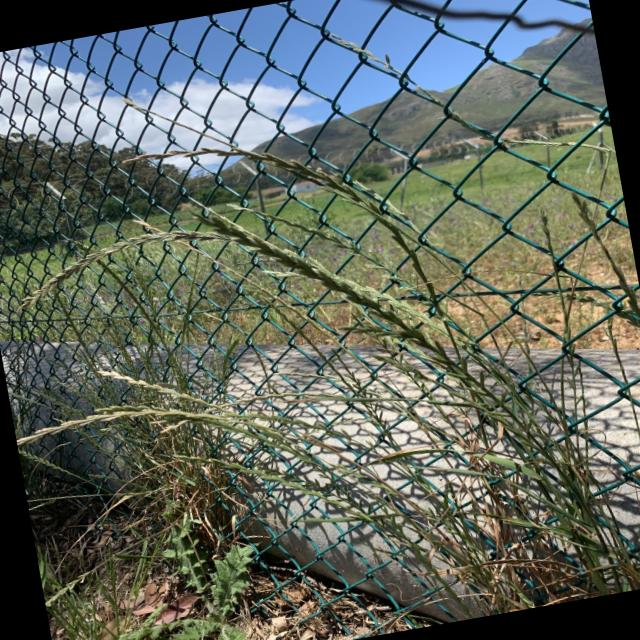Lolium: (80, 109, 433, 344), (203, 178, 460, 411), (165, 419, 373, 557), (16, 384, 262, 474), (19, 216, 234, 299), (268, 346, 420, 443), (87, 347, 232, 438), (162, 388, 338, 430), (40, 564, 105, 608), (17, 438, 69, 482), (85, 466, 141, 498)
